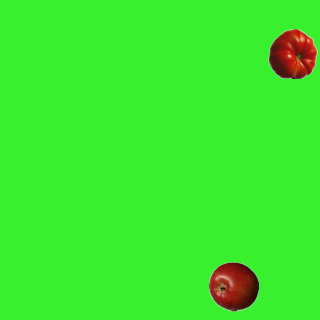Apple Braeburn: (208, 261, 258, 311)
Tomato 3: (267, 28, 317, 78)
